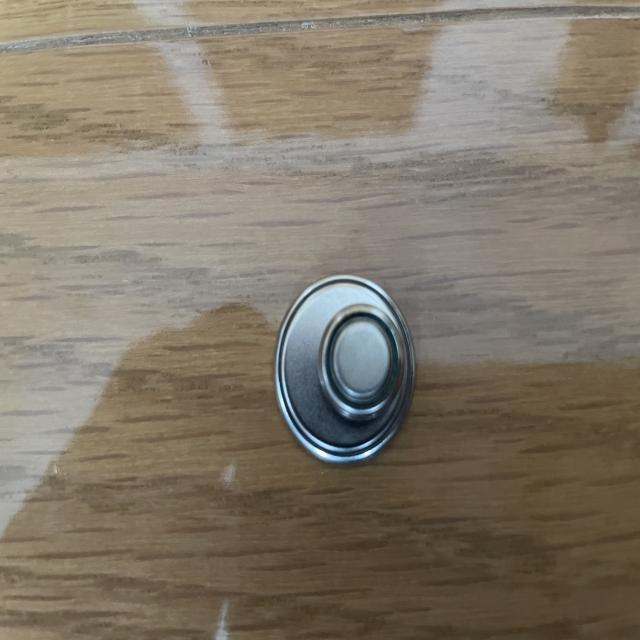COIN: (271, 272, 416, 466), (318, 302, 406, 425)
